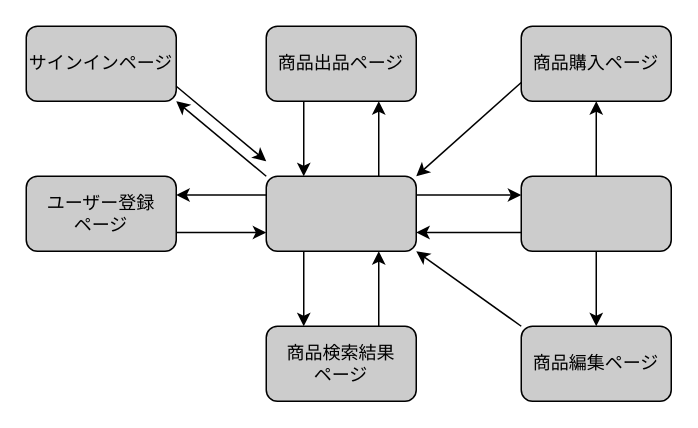
The diagram is 698 pixels wide and 428 high, and some of its shapes have lost their labels. The shapes that lost their labels are listed below. From the top down, each one's centre as x and y in pixels, then its label:
At point 340,213: "Topページ".
At point 595,213: "商品詳細ページ".
